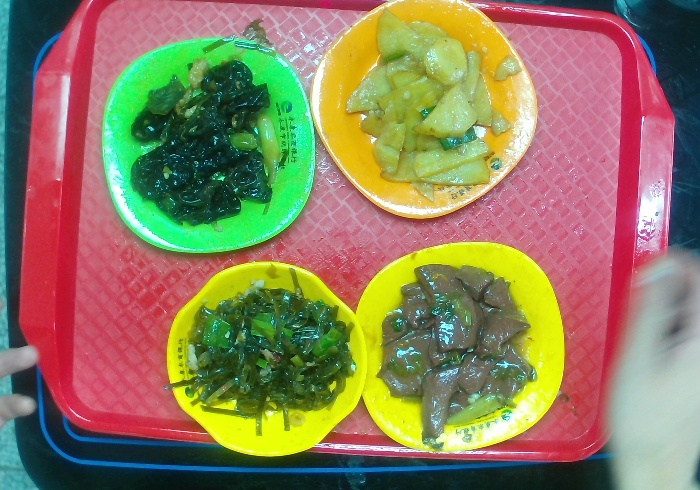YKMZ-Huang_Se_Ao_Bian_Wan: (167, 263, 369, 458)
YKMZ-Huang_Se_Fang_Die: (351, 242, 567, 448)
YKMZ-Ju_Se_Fang_Die: (304, 1, 540, 218)
YKMZ-Lv_Se_Fang_Die: (99, 39, 320, 250)
